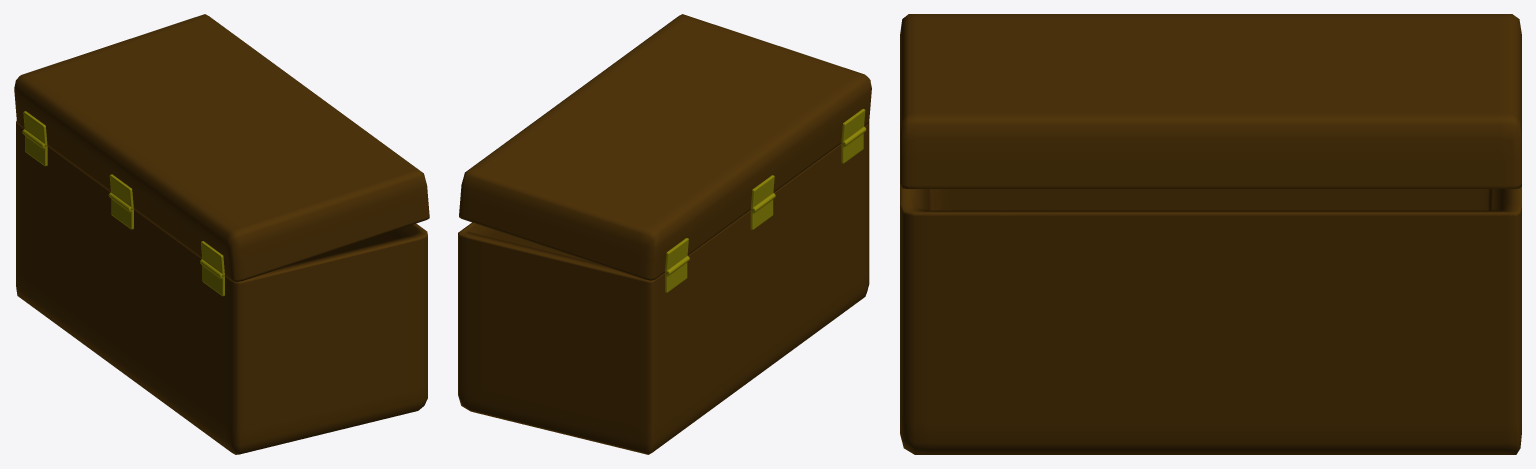
The model's file is ChestHigh3.fbx.
3 views of the same model, side by side, from view 1: azimuth 30°, elevation 25°; view 2: azimuth 150°, elevation 25°; view 3: azimuth 270°, elevation 25° (orthographic). The views are drawn at different scales.
Visible parts, largest first — view 1: LowerChest, ChestLid, pasted__Hinge2, pasted__pasted__Hinge2, Hinge1; view 2: LowerChest, ChestLid, pasted__pasted__Hinge2, Hinge1, pasted__Hinge2; view 3: LowerChest, ChestLid.
Boxes of the visible parts, box(x1,y1,x2,y2) form: LowerChest: box(16, 121, 427, 454); ChestLid: box(14, 14, 429, 282); pasted__Hinge2: box(22, 111, 47, 166); pasted__pasted__Hinge2: box(108, 174, 133, 229); Hinge1: box(200, 241, 224, 296); LowerChest: box(458, 122, 869, 454); ChestLid: box(459, 14, 871, 280); pasted__pasted__Hinge2: box(750, 175, 775, 229); Hinge1: box(841, 109, 866, 163); pasted__Hinge2: box(665, 238, 689, 292); LowerChest: box(900, 186, 1521, 454); ChestLid: box(900, 14, 1521, 188).
Bounding box in the file's own units: 3.1 × 3.53 × 5.89.
